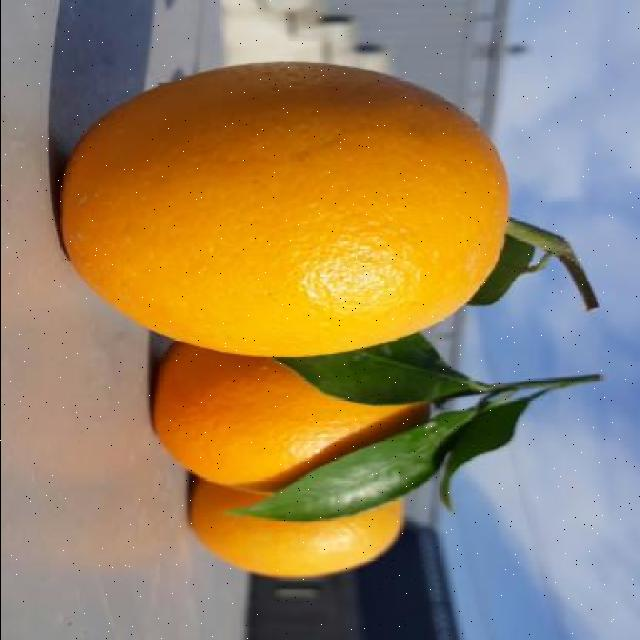Orange: (59, 59, 512, 358), (150, 340, 432, 494), (189, 464, 406, 580)
